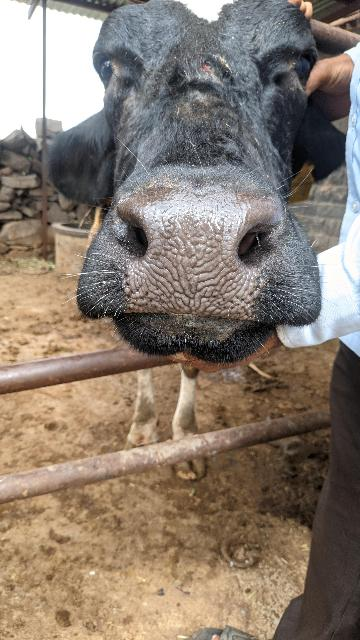Muzzle: (123, 192, 261, 318)
